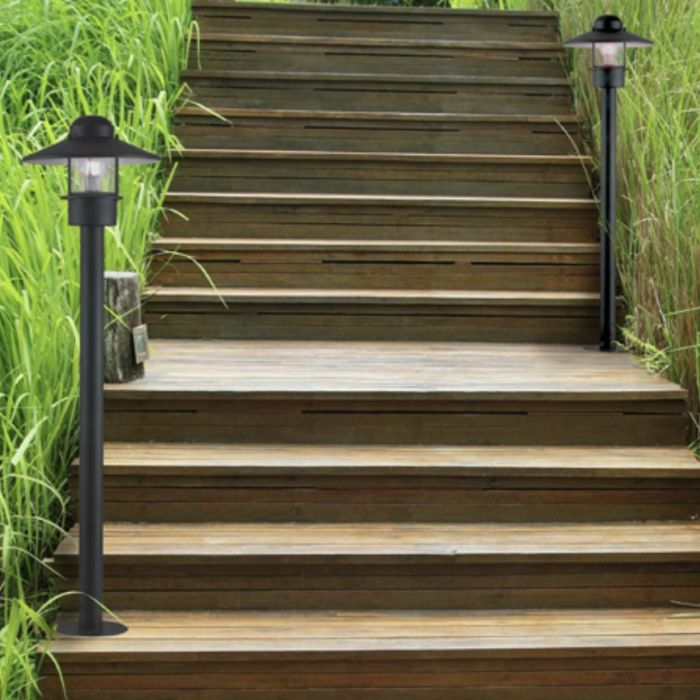light_pole: (44, 124, 127, 635), (586, 24, 626, 360)
